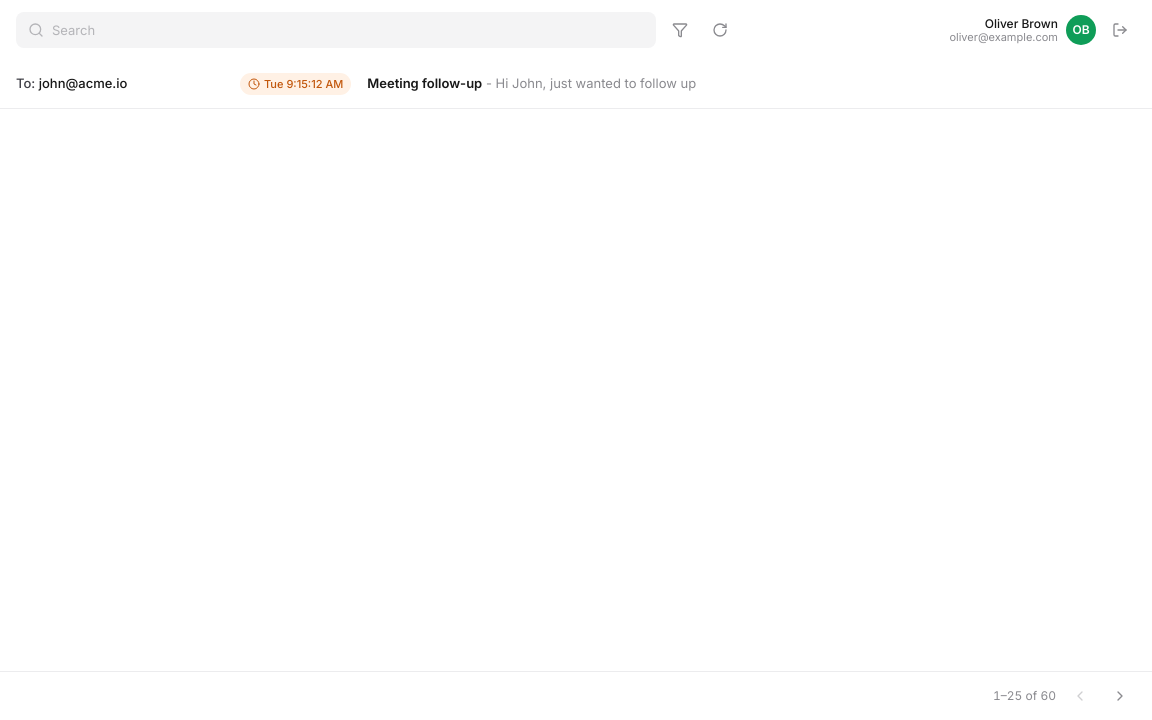
Test case: Mailbox › asks the server for the scheduled statuses, sorted by scheduled time, page by page
Check: the text "1–25 of 60" is shown, box [993,687,1056,705]
What coordinates should you click on to do the following:
click the button named "Next page"
I would click on:
 (1120, 696)
Its box is [1104,680,1136,712].
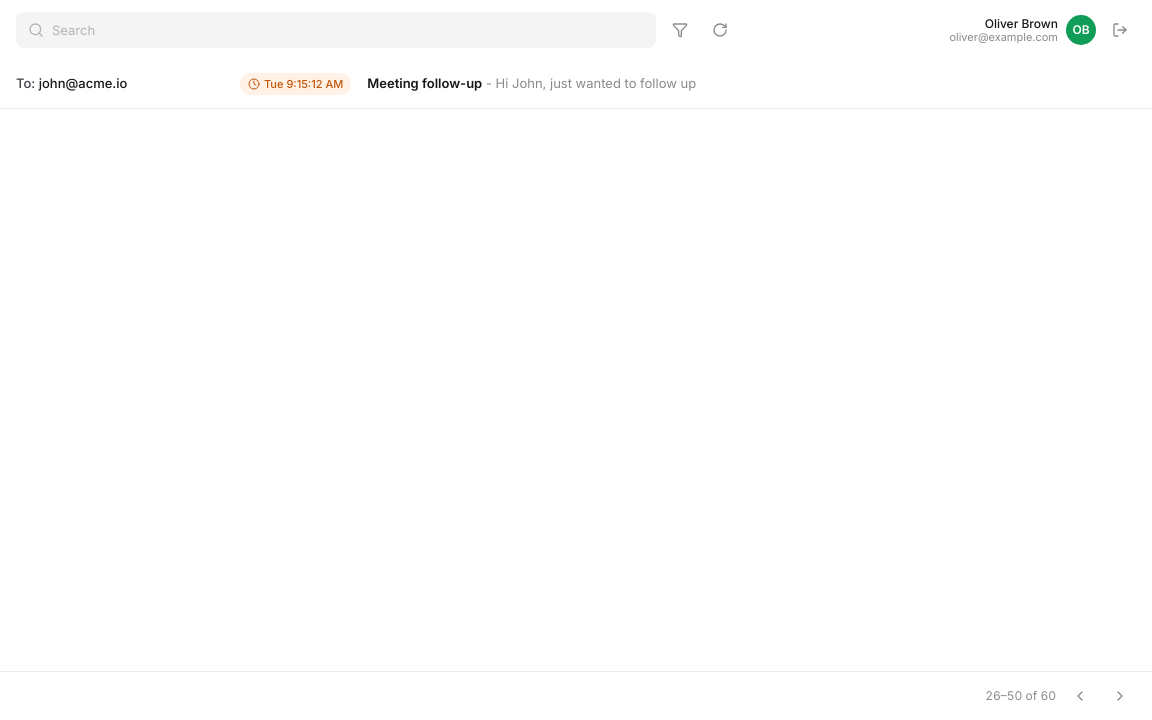
Check: the text "26–50 of 60" is shown, box [985,687,1056,705]
